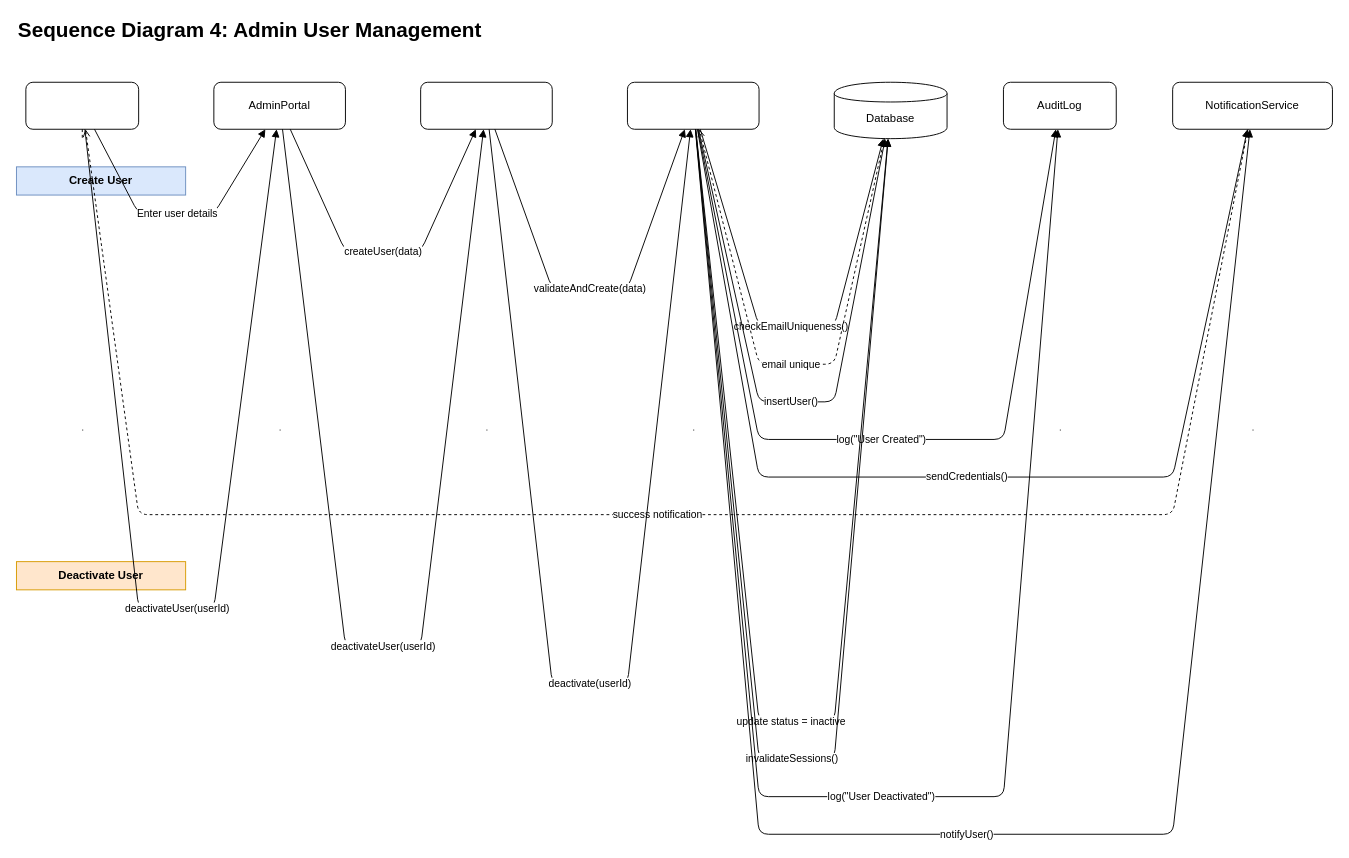
This 1349x858 diagram has some shape labels left out. The shapes that lost their labels are listed below. From the top down, each one's box as (x1, y1, x2, y2) in pixels, then its label:
(25, 81, 139, 129): Admin
(420, 81, 552, 129): UserController
(627, 81, 759, 129): UserService
